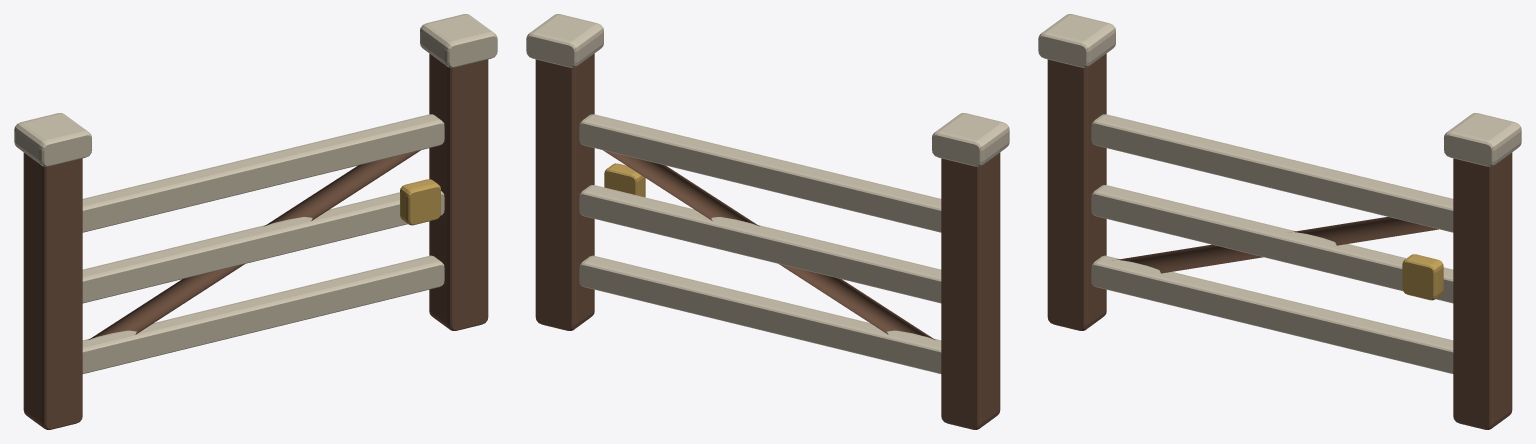
File: farm-gate-lod1.glb
The picture shows the model from 3 angles, left to right: view 1: azimuth 30°, elevation 25°; view 2: azimuth 150°, elevation 25°; view 3: azimuth 330°, elevation 25°; orthographic projection.
Visible parts, largest first — view 1: shell; view 2: shell; view 3: shell.
Boxes of the visible parts, x1,y1,x2,y2 form: shell: [14, 14, 497, 429]; shell: [526, 14, 1009, 429]; shell: [1038, 14, 1521, 429].
Bounding box in the file's own units: 2.71 × 1.66 × 0.3099.
